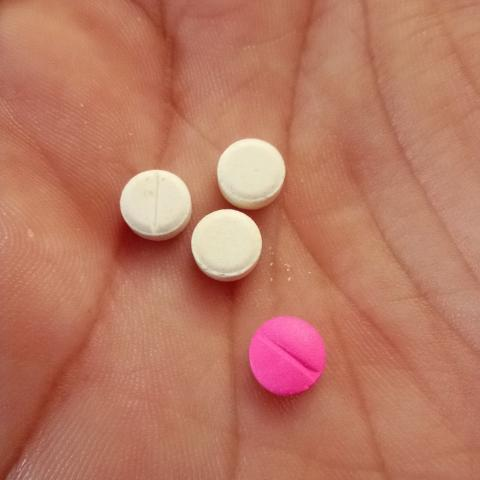Pill: (177, 202, 266, 296), (101, 160, 198, 244), (202, 124, 295, 207)
